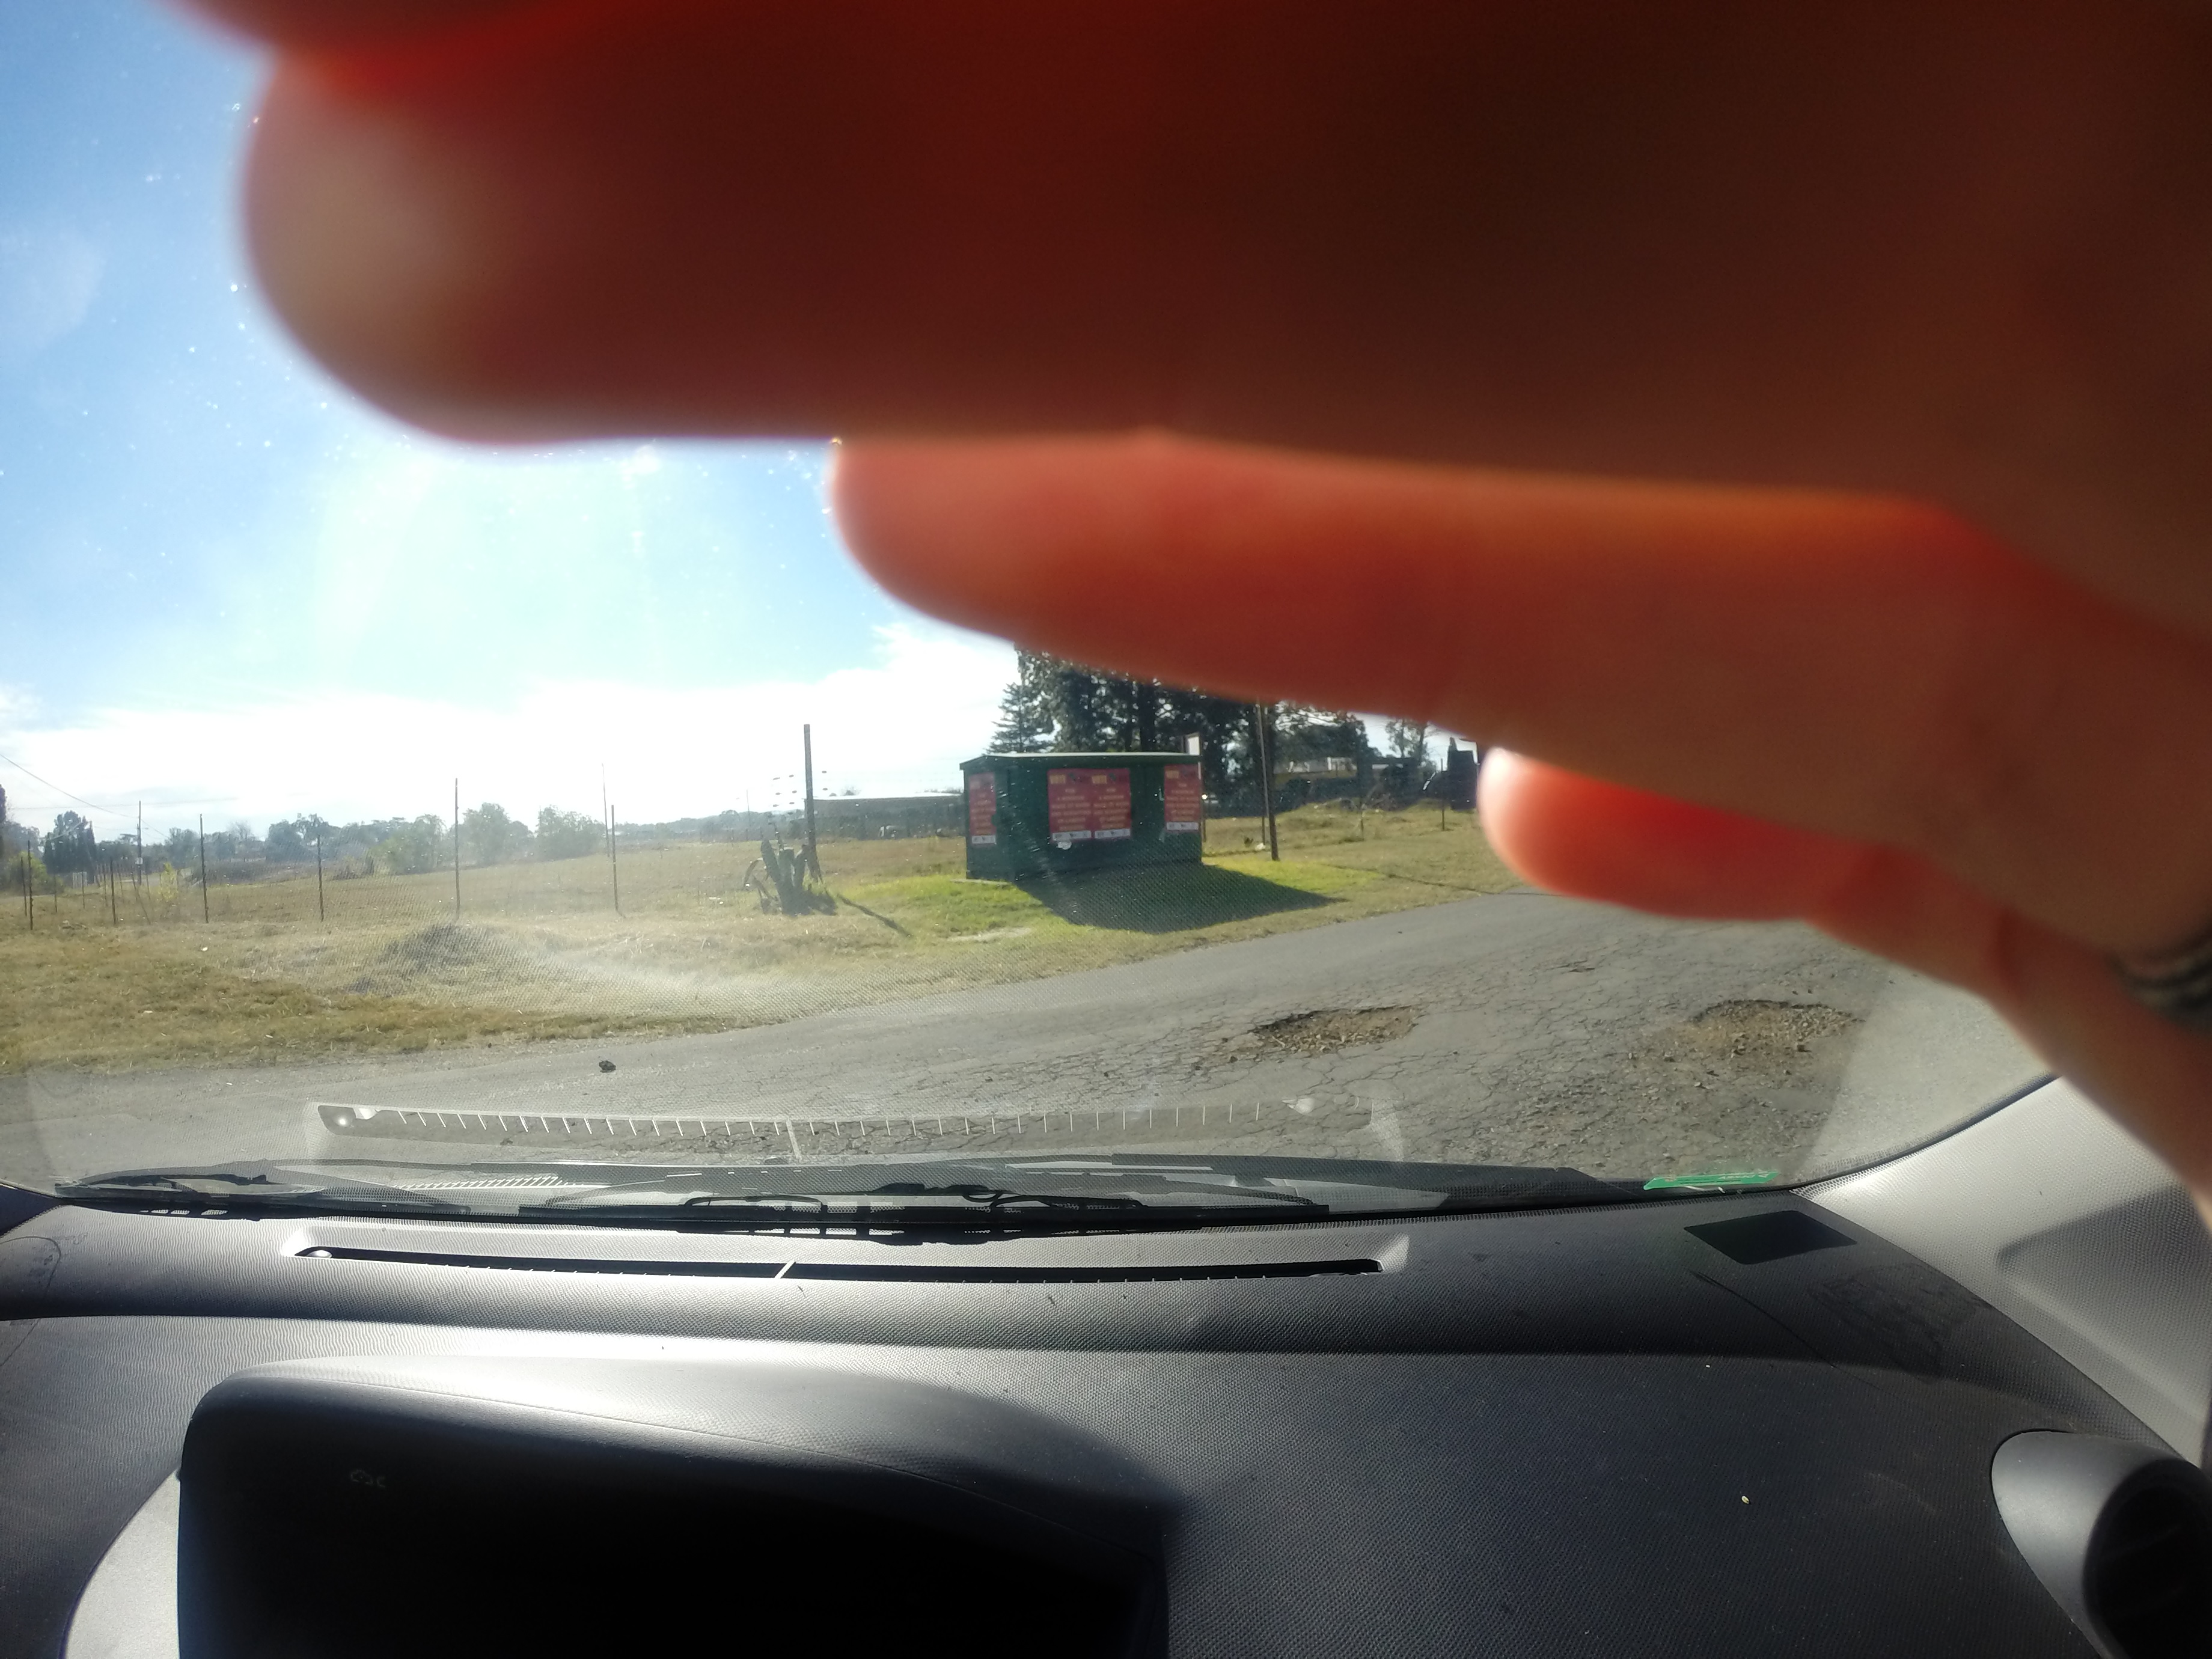pothole: (1157, 983, 1517, 1117), (1634, 962, 1897, 1143)
